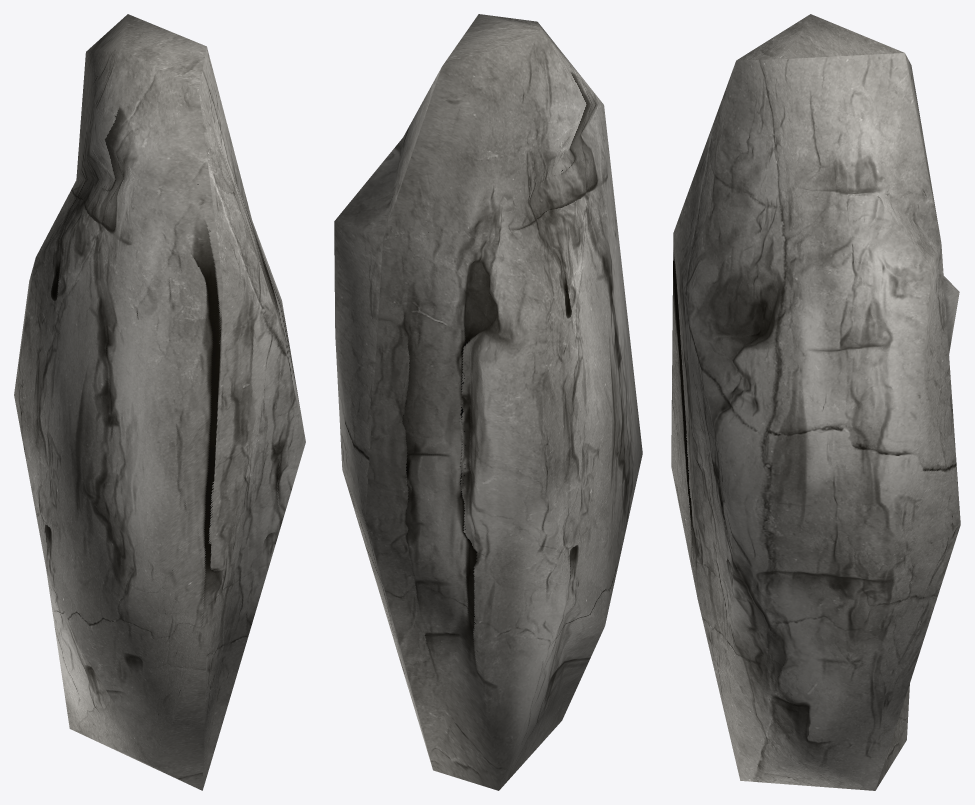
The model's file is ROCK_6.FBX.
3 views of the same model, side by side, from view 1: azimuth 30°, elevation 25°; view 2: azimuth 150°, elevation 25°; view 3: azimuth 270°, elevation 25° (orthographic). The views are drawn at different scales.
Visible parts, largest first — view 1: 06; view 2: 06; view 3: 06.
Part boxes in pixels (x1,y1,x2,y2): 06: (14, 14, 305, 790); 06: (334, 14, 642, 790); 06: (671, 14, 960, 790).
Bounding box in the file's own units: 421 × 1292 × 456.
Materials: 1 (1 with a texture image).
